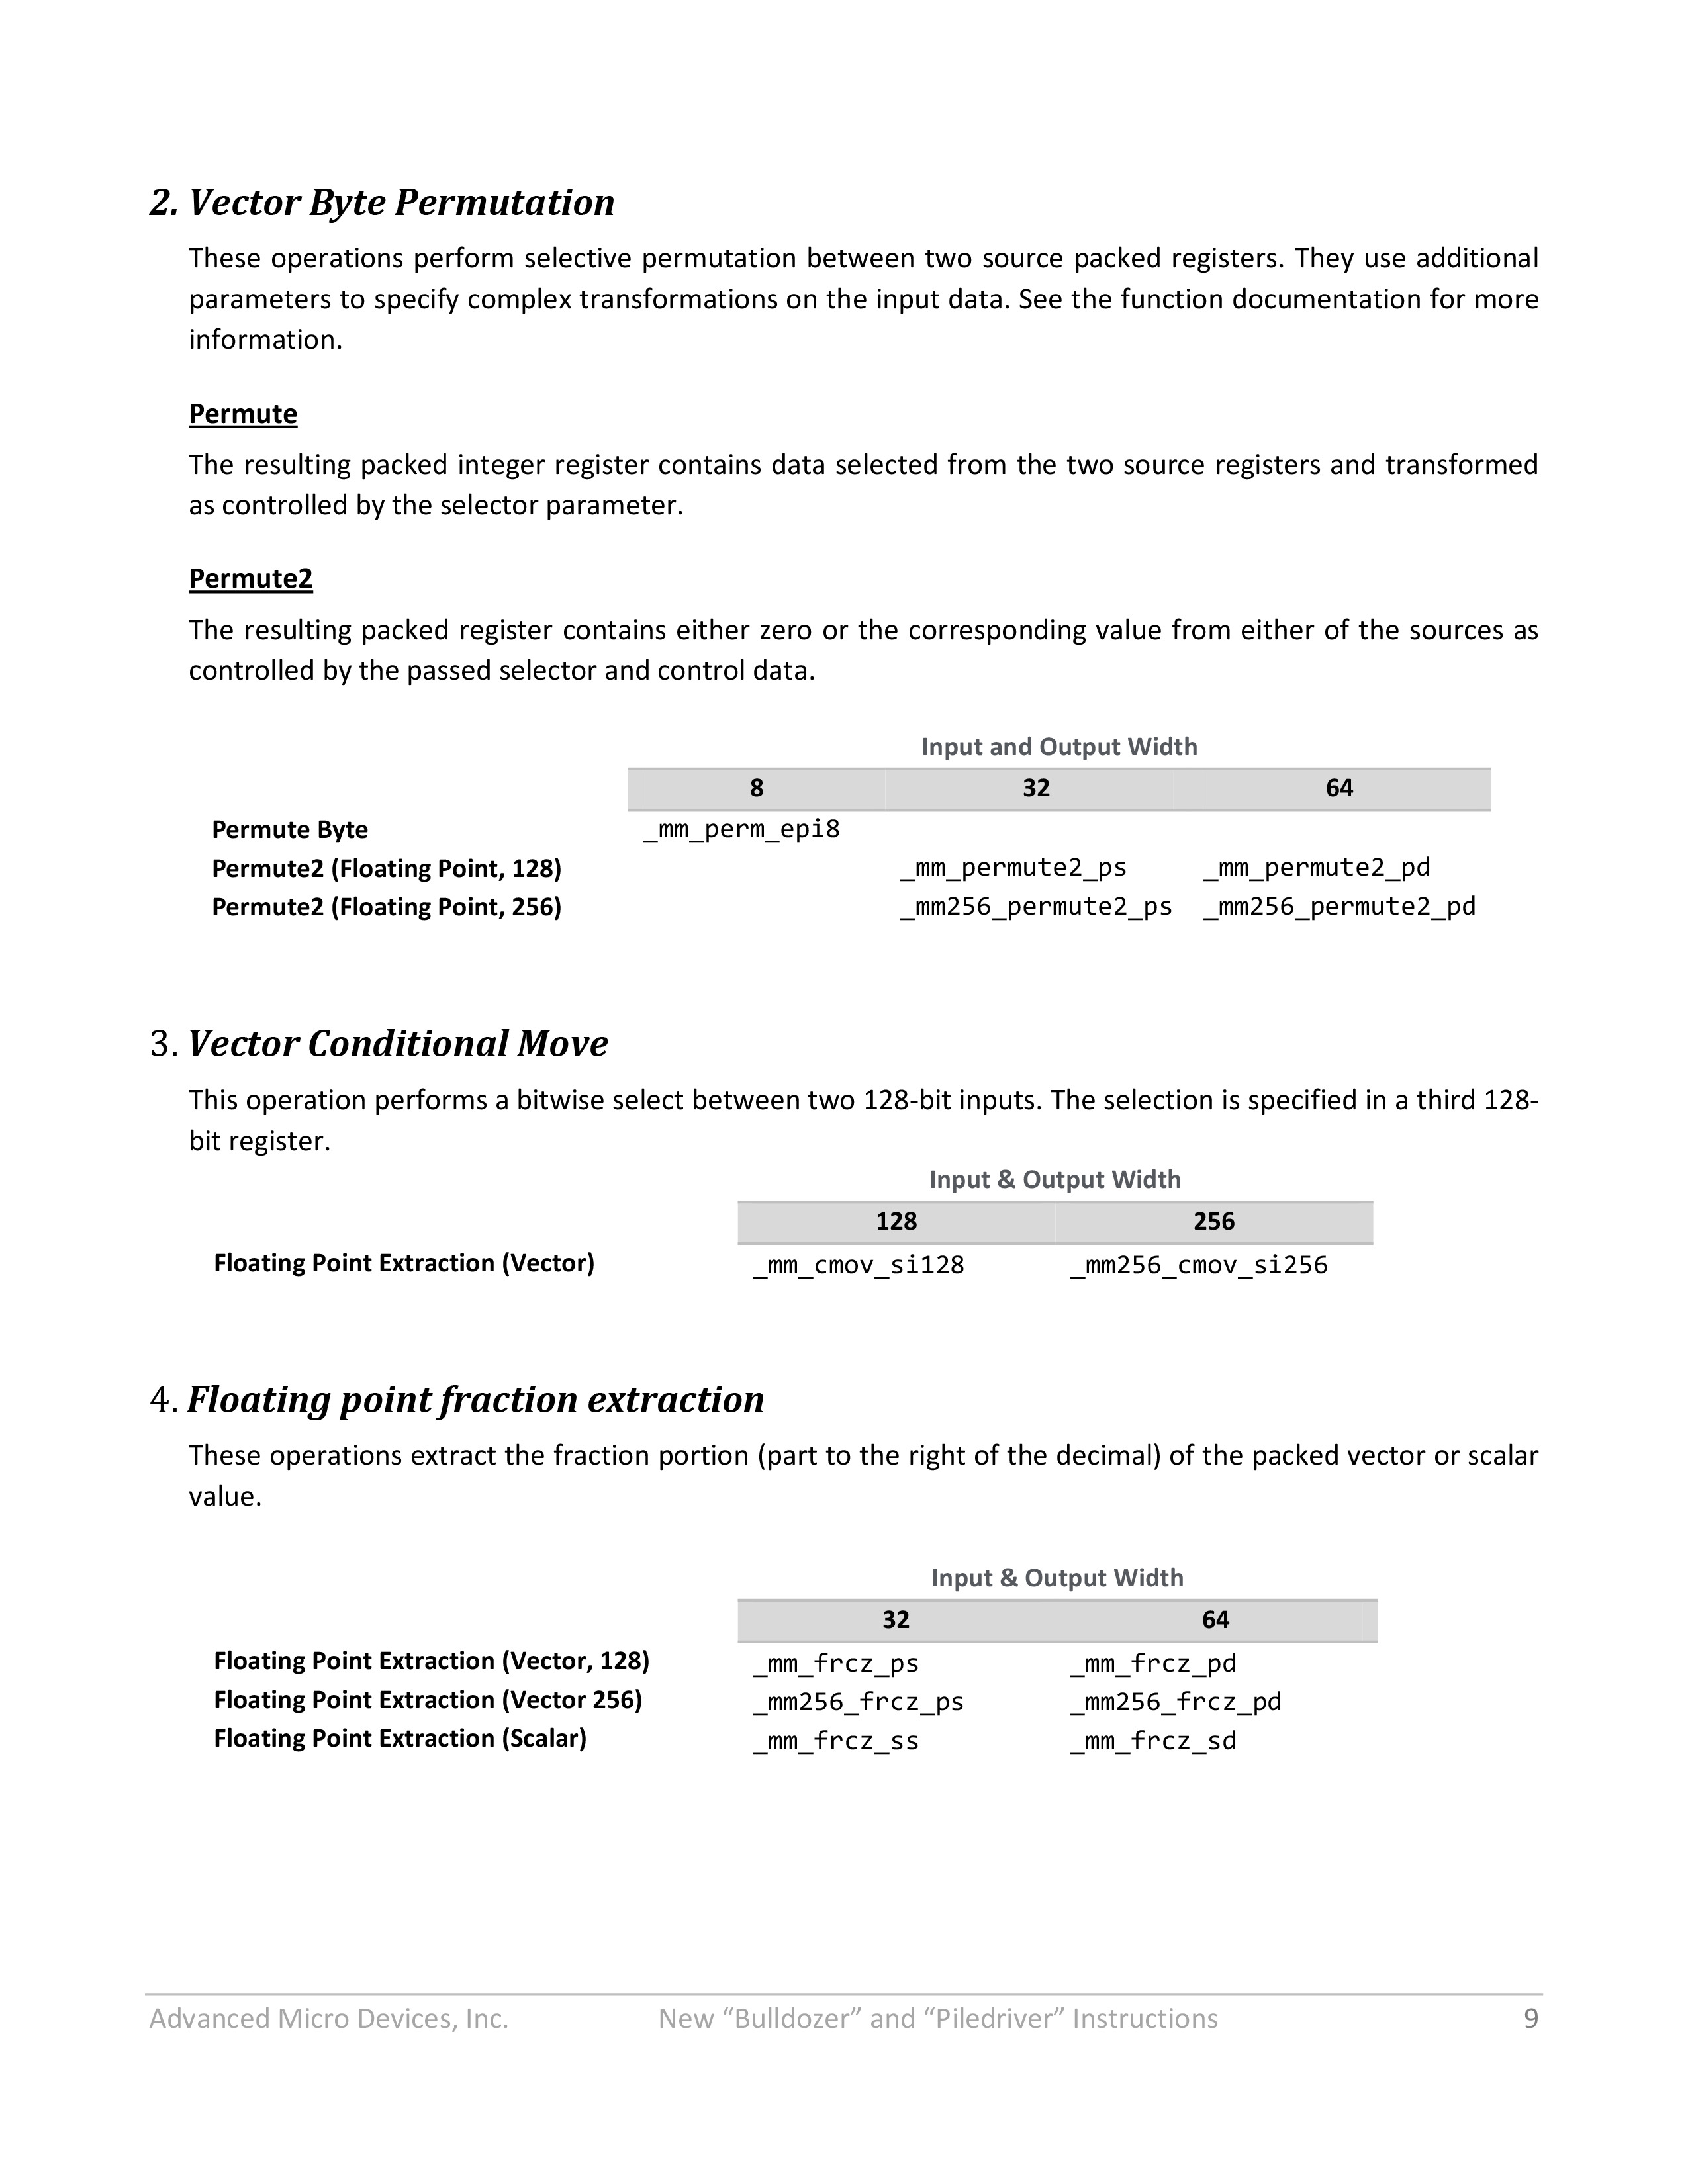section: (122, 1365, 778, 1418), (144, 1002, 626, 1072), (126, 177, 633, 243), (174, 550, 330, 606), (170, 394, 300, 443)
table: (206, 727, 1518, 940), (193, 1558, 1406, 1767), (213, 1159, 1426, 1285)
text: (167, 236, 1532, 363), (186, 1429, 1548, 1528), (181, 433, 1567, 526), (177, 619, 1551, 698), (177, 1081, 1539, 1152)
